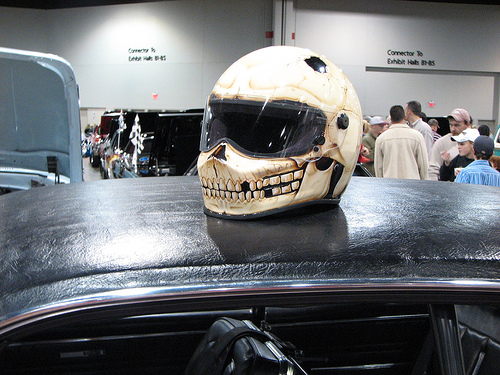helmet: (190, 41, 363, 217)
